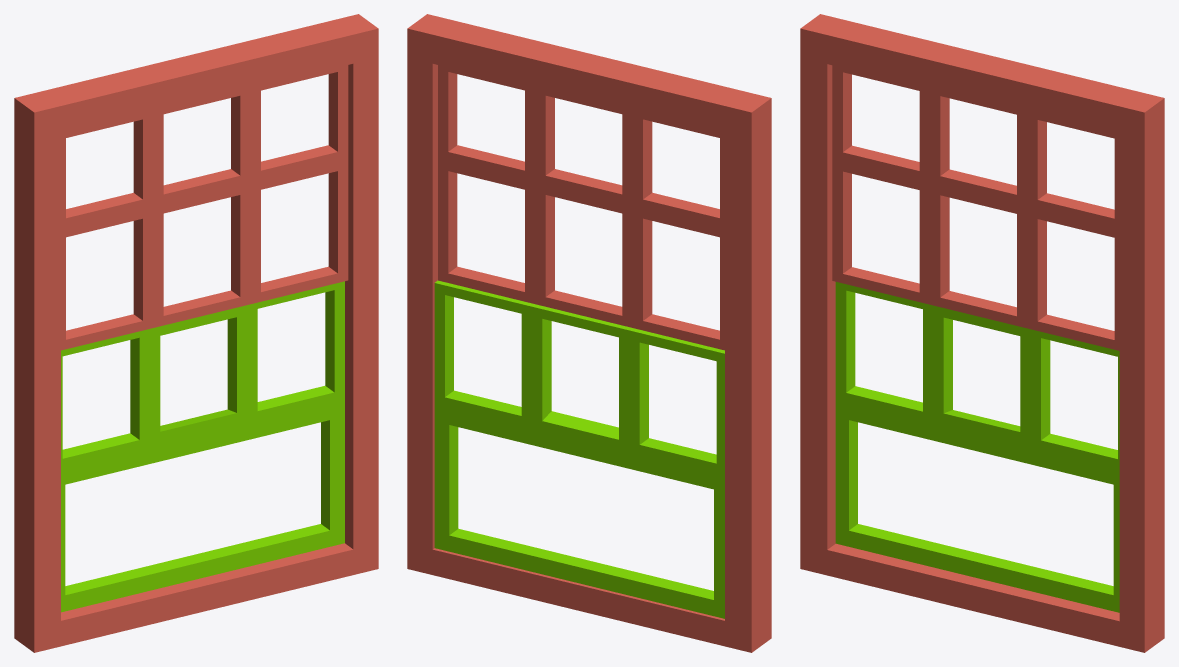
Rendered from Window.fbx.
3 views of the same model, side by side, from view 1: azimuth 30°, elevation 25°; view 2: azimuth 150°, elevation 25°; view 3: azimuth 330°, elevation 25° (orthographic).
Visible parts, largest first — view 1: Window, OpenableWindow; view 2: Window, OpenableWindow; view 3: Window, OpenableWindow.
Part boxes in pixels (x1,y1,x2,y2): Window: [14, 14, 378, 652]; OpenableWindow: [61, 281, 344, 612]; Window: [407, 14, 771, 652]; OpenableWindow: [434, 280, 724, 618]; Window: [800, 14, 1164, 652]; OpenableWindow: [835, 282, 1119, 612].
Bounding box in the file's own units: 400 × 600 × 40.
